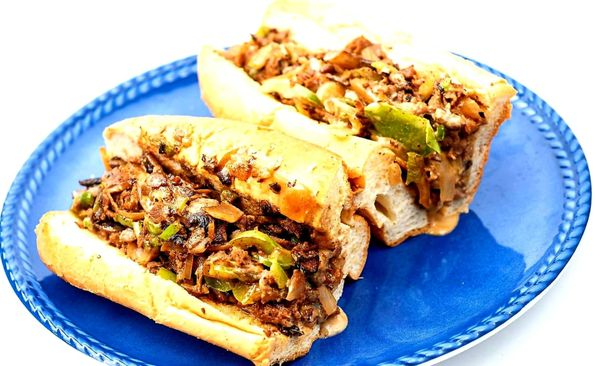soup: (39, 115, 371, 362), (196, 8, 516, 247)
